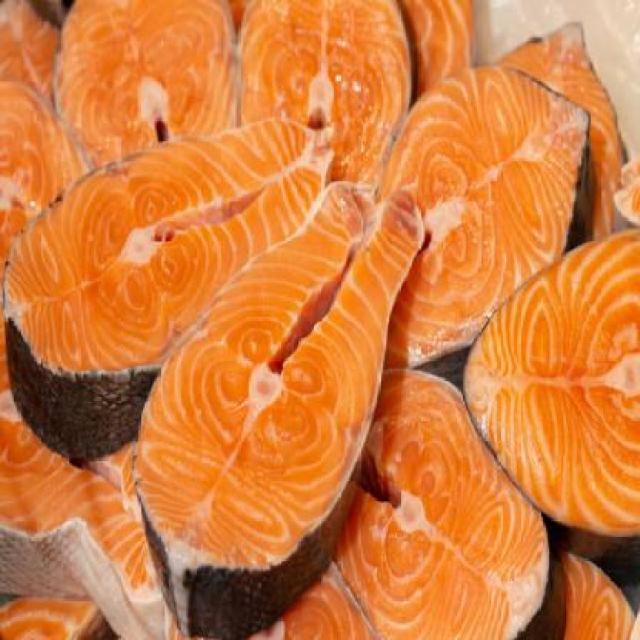salmon: (132, 178, 435, 640), (6, 122, 344, 430), (346, 57, 603, 365), (283, 369, 555, 635), (467, 223, 640, 544), (232, 4, 437, 248), (44, 3, 246, 232)
